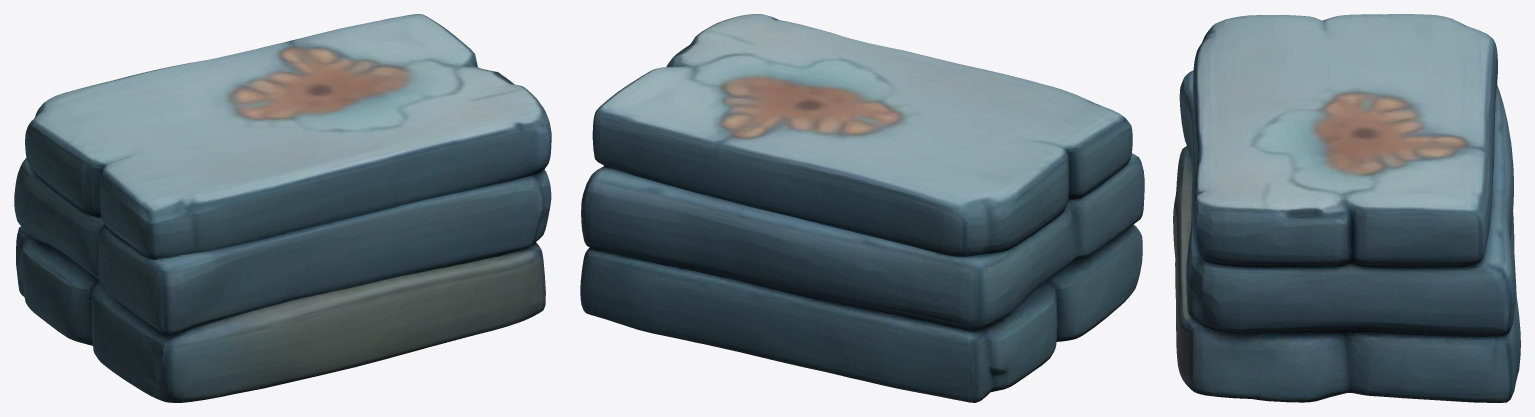
The model's file is stone_floor.glb.
3 views of the same model, side by side, from view 1: azimuth 30°, elevation 25°; view 2: azimuth 150°, elevation 25°; view 3: azimuth 270°, elevation 25° (orthographic).
Visible parts, largest first — view 1: world.001; view 2: world.001; view 3: world.001.
Part boxes in pixels (bbox=[...]): world.001: bbox=[14, 14, 551, 402]; world.001: bbox=[580, 14, 1144, 402]; world.001: bbox=[1173, 14, 1520, 402].
Size of the model in its own units: 0.9975 by 0.4573 by 0.7265.
1 material, 1 textured.
